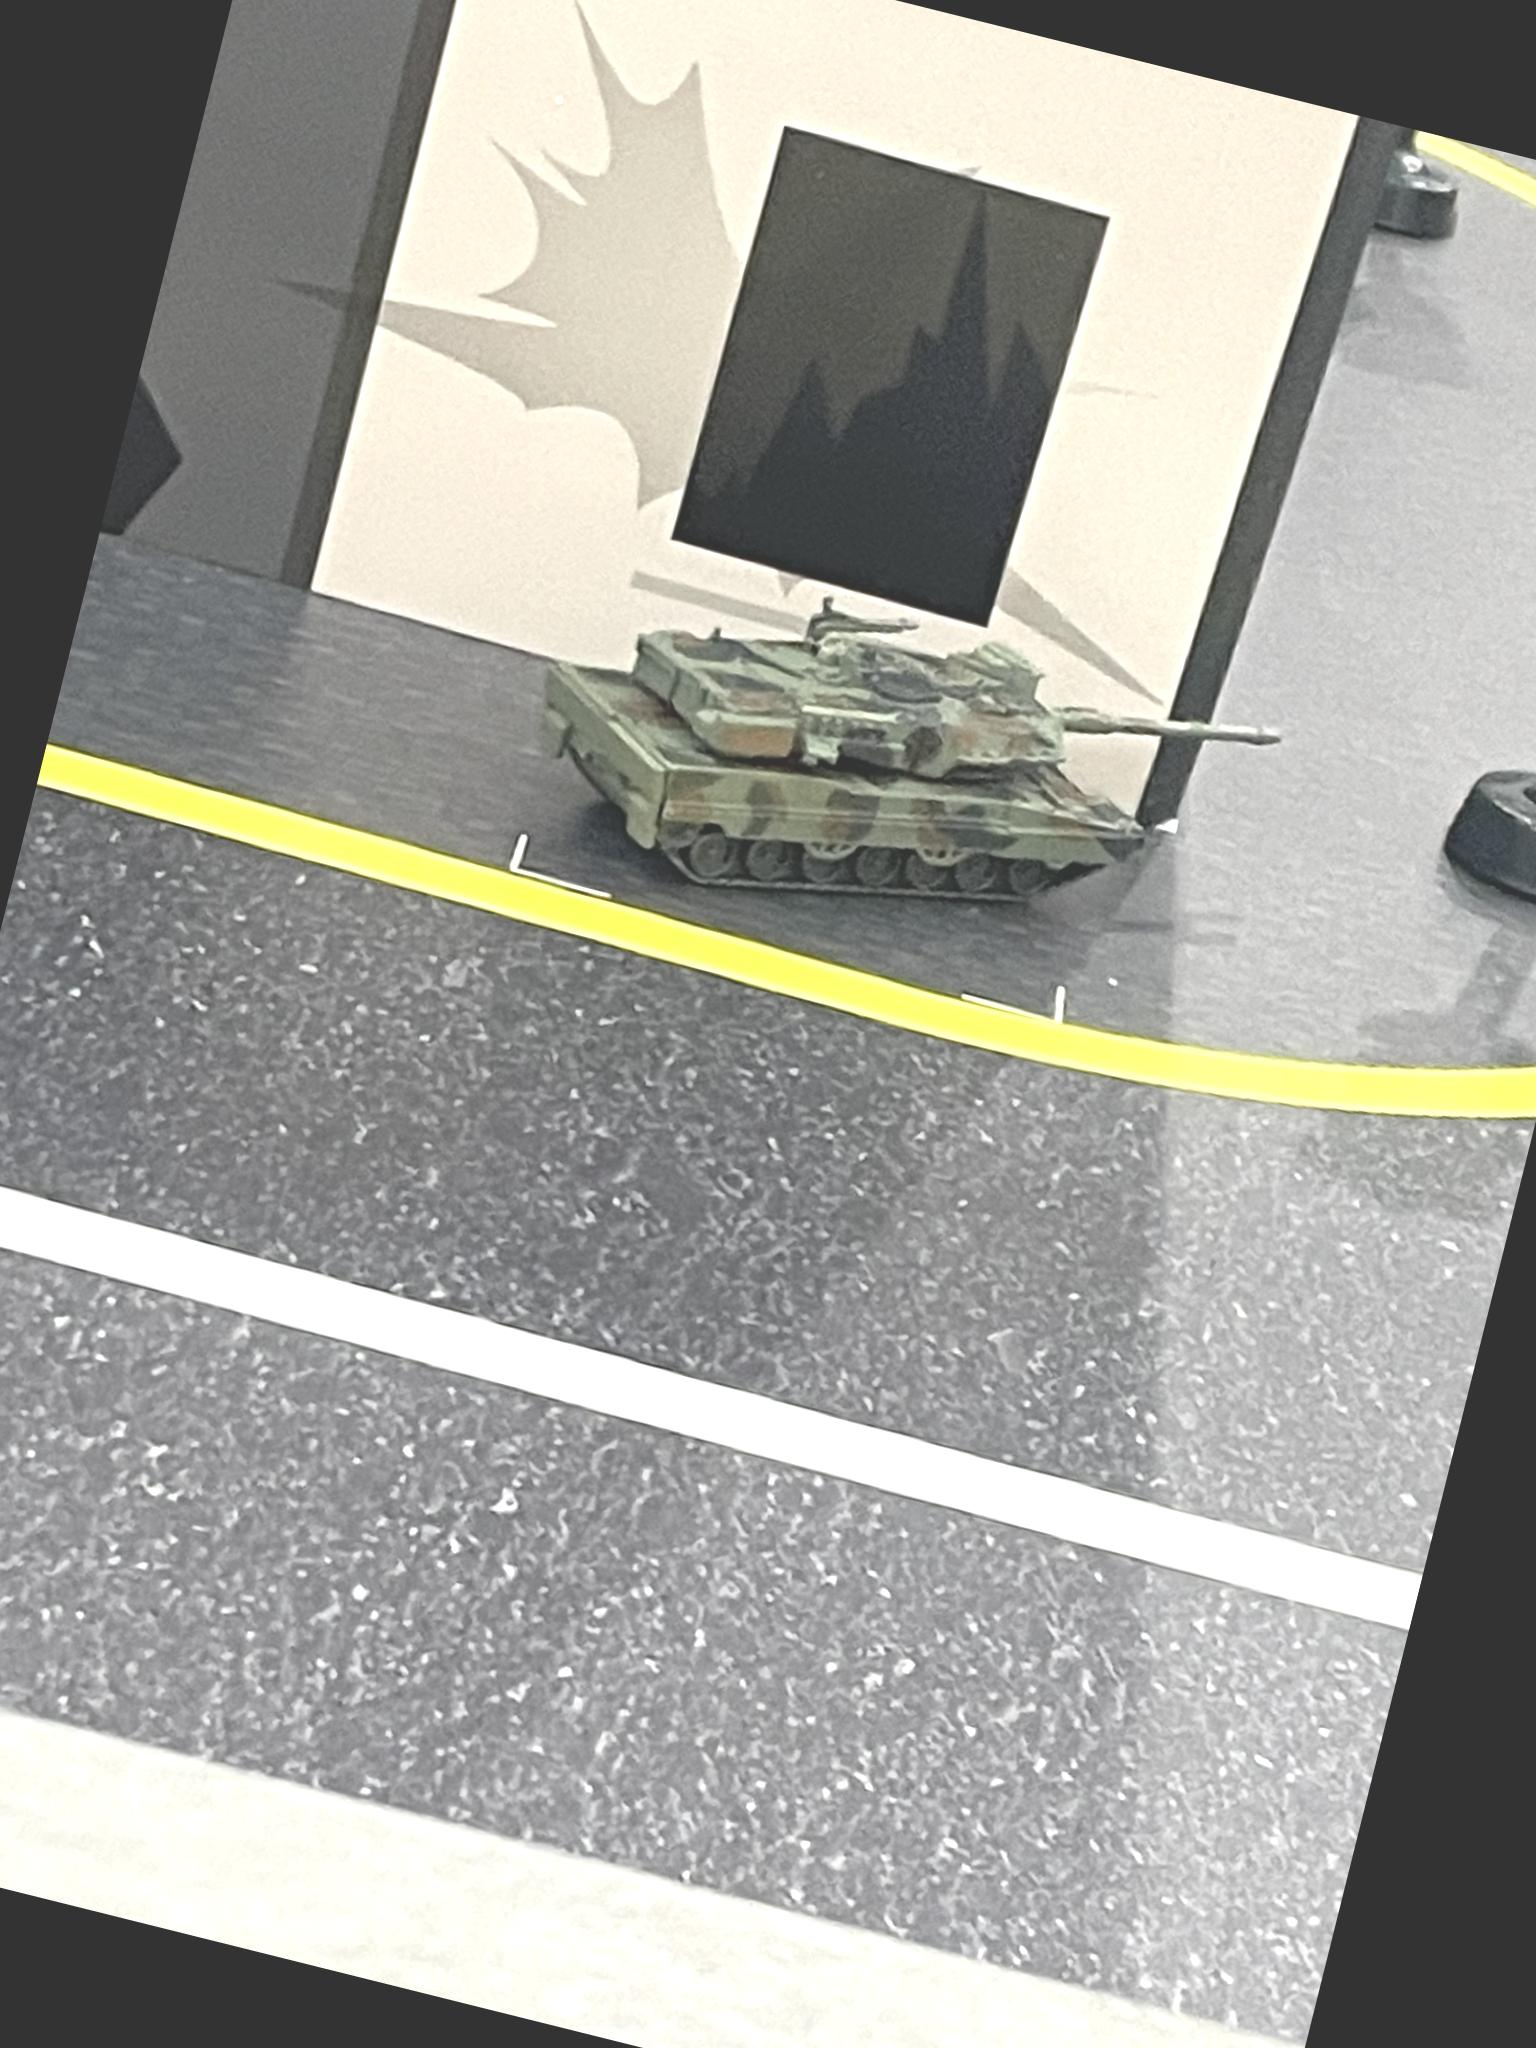Tank: (492, 524, 1312, 1029)
